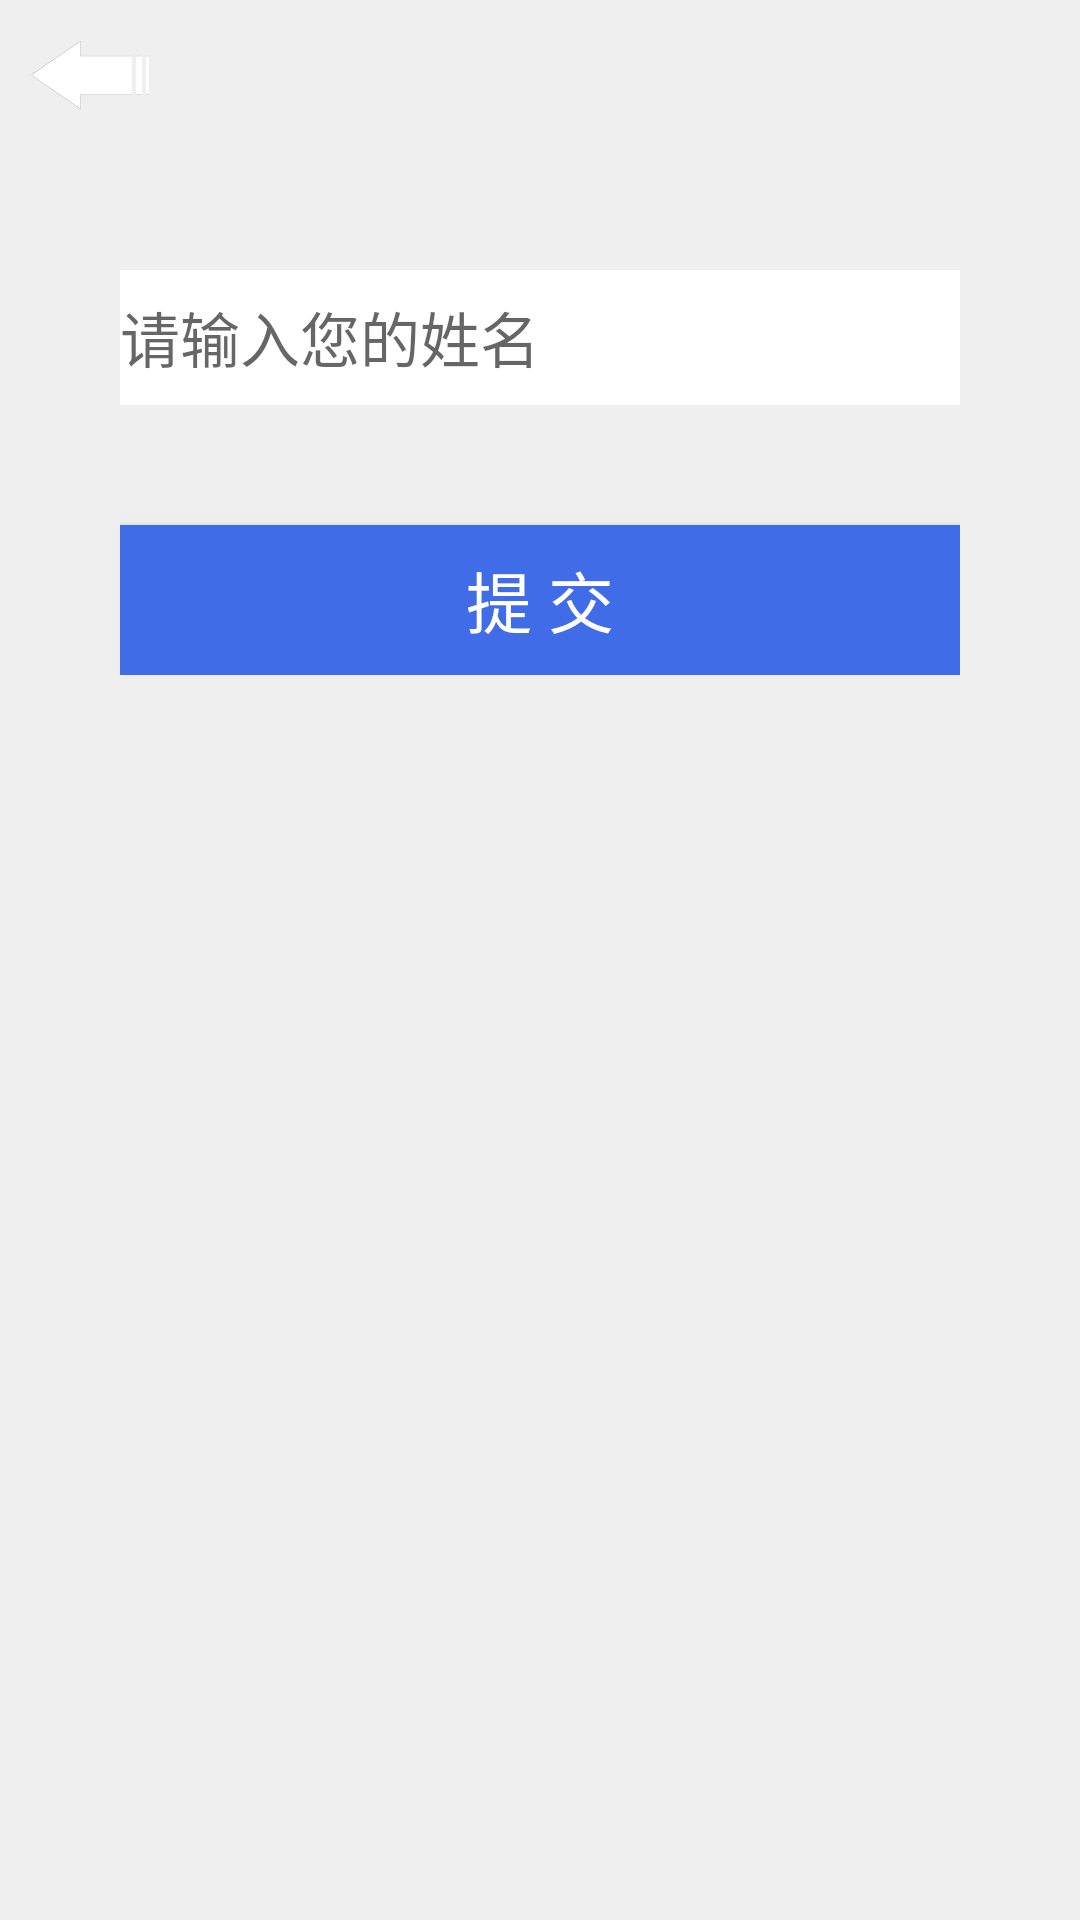

Icons on this 1080 x 1920 Android screen, each with its box as box(x1, y1, x2, y2):
back: box(33, 41, 81, 109)
